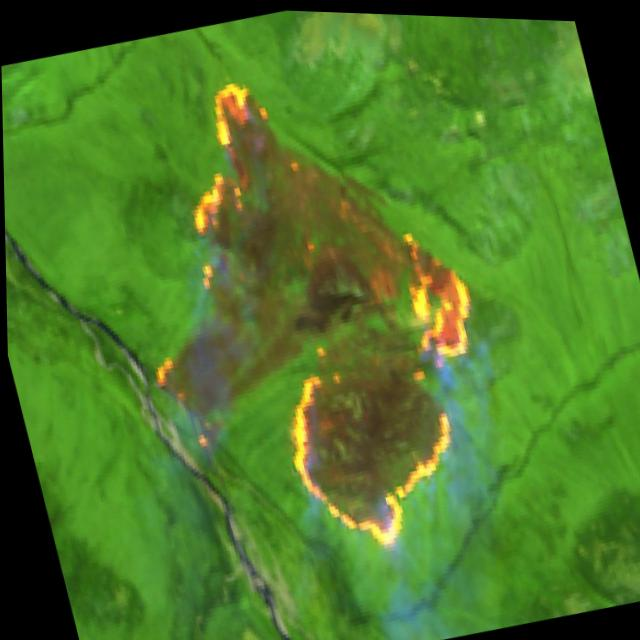fire: (77, 25, 535, 595)
